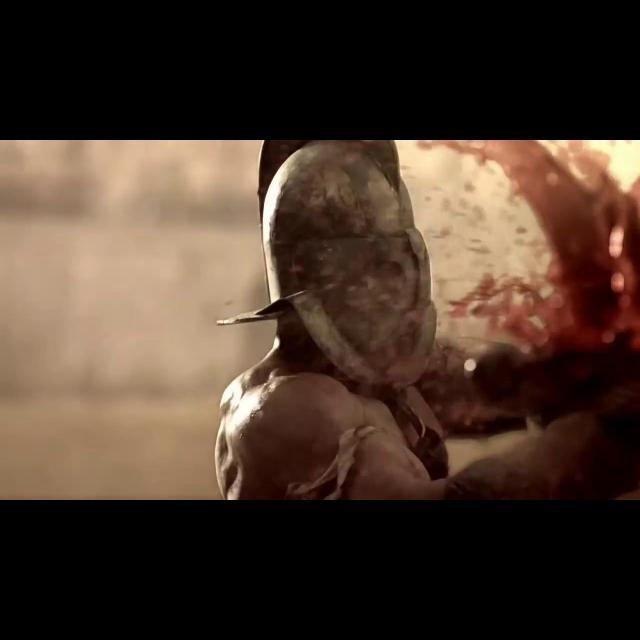blood: (398, 140, 640, 354)
